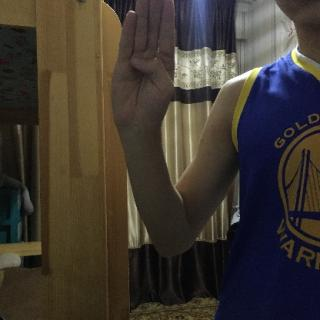KAAF: (106, 0, 183, 145)
